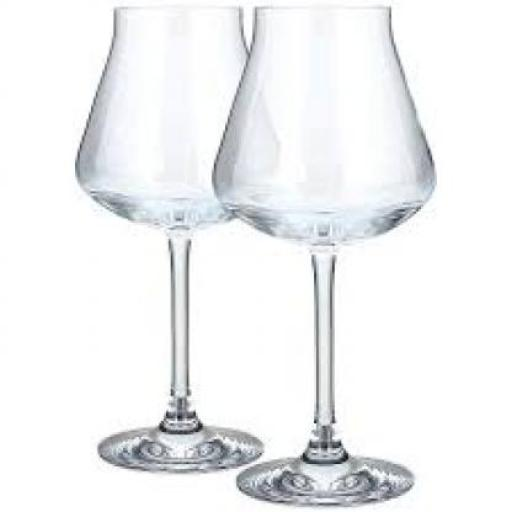glass: (210, 2, 434, 503), (71, 7, 266, 473)
